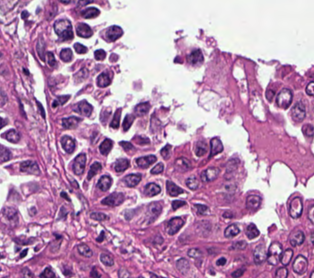nucleus: (53, 19, 73, 40), (101, 192, 123, 206), (72, 153, 85, 175), (200, 167, 219, 182), (167, 217, 183, 234), (74, 100, 92, 115), (60, 135, 75, 153), (20, 160, 39, 174), (209, 137, 222, 157), (106, 25, 122, 41), (166, 181, 183, 196), (136, 155, 156, 167), (87, 162, 101, 179), (123, 174, 141, 187), (148, 202, 161, 220), (61, 116, 80, 128), (188, 49, 203, 64), (76, 23, 92, 37), (174, 157, 190, 171), (97, 175, 111, 191), (2, 129, 19, 142), (97, 71, 110, 87), (99, 138, 112, 154), (113, 158, 129, 171), (144, 183, 160, 196), (52, 95, 69, 107), (110, 108, 120, 128), (81, 7, 99, 18), (246, 195, 260, 209), (134, 102, 149, 115), (2, 207, 17, 220), (224, 224, 239, 237), (226, 158, 238, 174), (195, 141, 207, 156), (246, 223, 258, 238), (36, 38, 44, 60), (122, 114, 133, 130), (0, 145, 10, 162), (60, 48, 72, 61), (186, 176, 198, 189), (160, 144, 170, 158), (90, 212, 107, 220), (73, 43, 86, 53), (120, 141, 133, 151), (194, 204, 207, 214), (135, 135, 149, 144), (94, 49, 105, 60), (151, 163, 163, 173), (172, 200, 185, 209), (47, 52, 55, 66), (37, 101, 44, 117), (232, 241, 246, 249), (266, 89, 274, 100), (61, 192, 69, 200), (223, 211, 232, 217), (97, 232, 103, 241), (1, 118, 6, 126), (22, 11, 27, 18), (62, 1, 69, 3)
